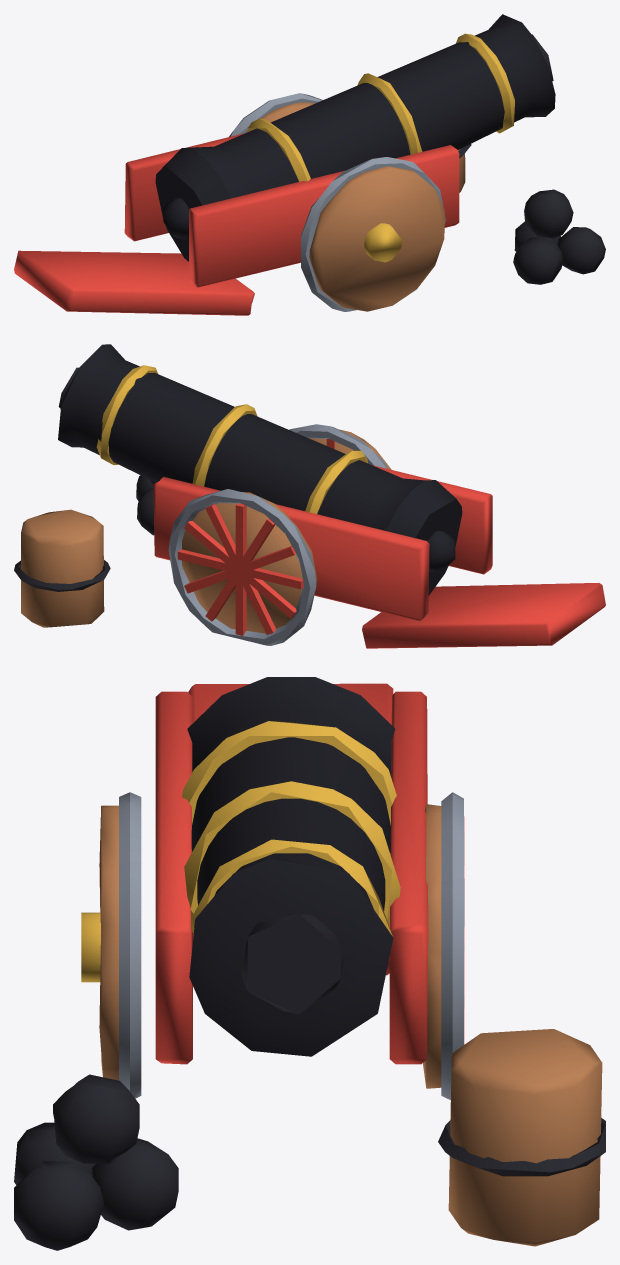
File: cannon.glb
3 renders of one model, top to bottom at view 1: azimuth 30°, elevation 25°; view 2: azimuth 150°, elevation 25°; view 3: azimuth 270°, elevation 25°, orthographic. The views are drawn at different scales.
Visible parts, largest first — view 1: cannon; view 2: cannon; view 3: cannon.
Part boxes in pixels (<box>): cannon: <box>14,14,605,315</box>; cannon: <box>14,344,605,648</box>; cannon: <box>14,677,605,1250</box>.
Bounding box in the file's own units: 4.15 × 1.64 × 2.28.
Materials: 1 (1 with a texture image).
